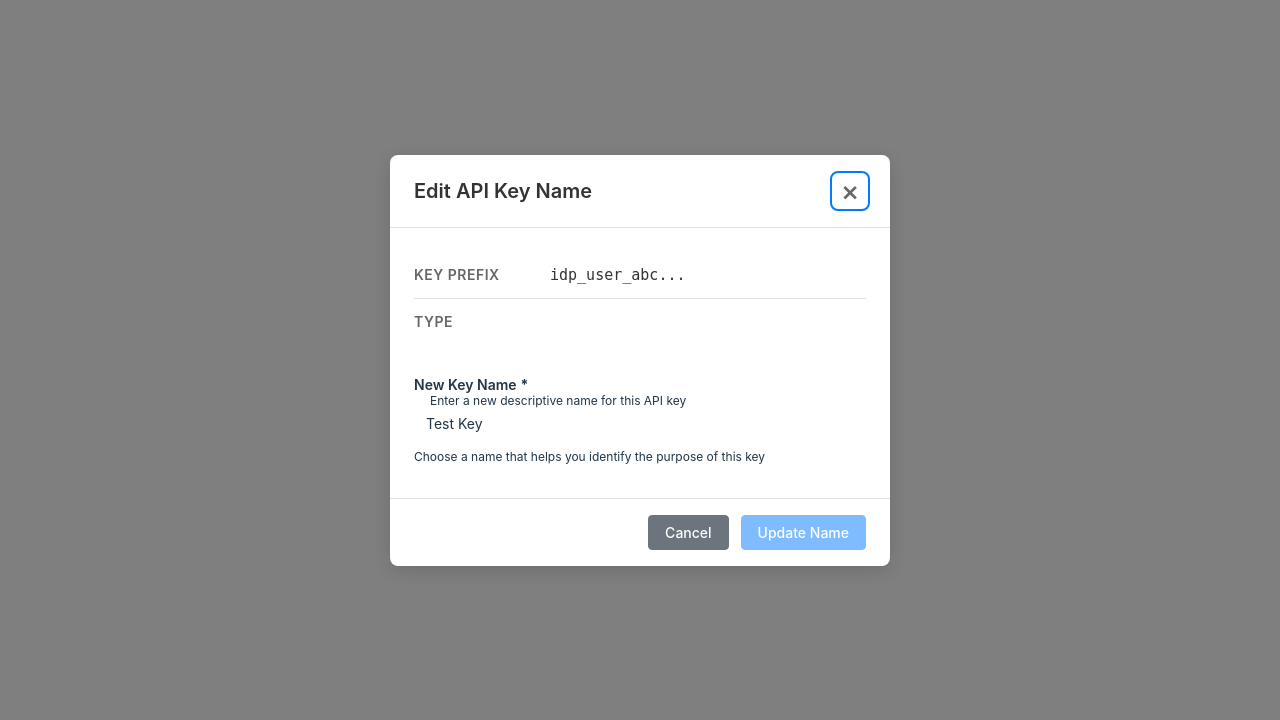
Scenario: ApiKeyEditNameModal › enables update button when name is changed
Replace the text in the field with "New Key Name" at (640, 421), box [414, 400, 866, 442]
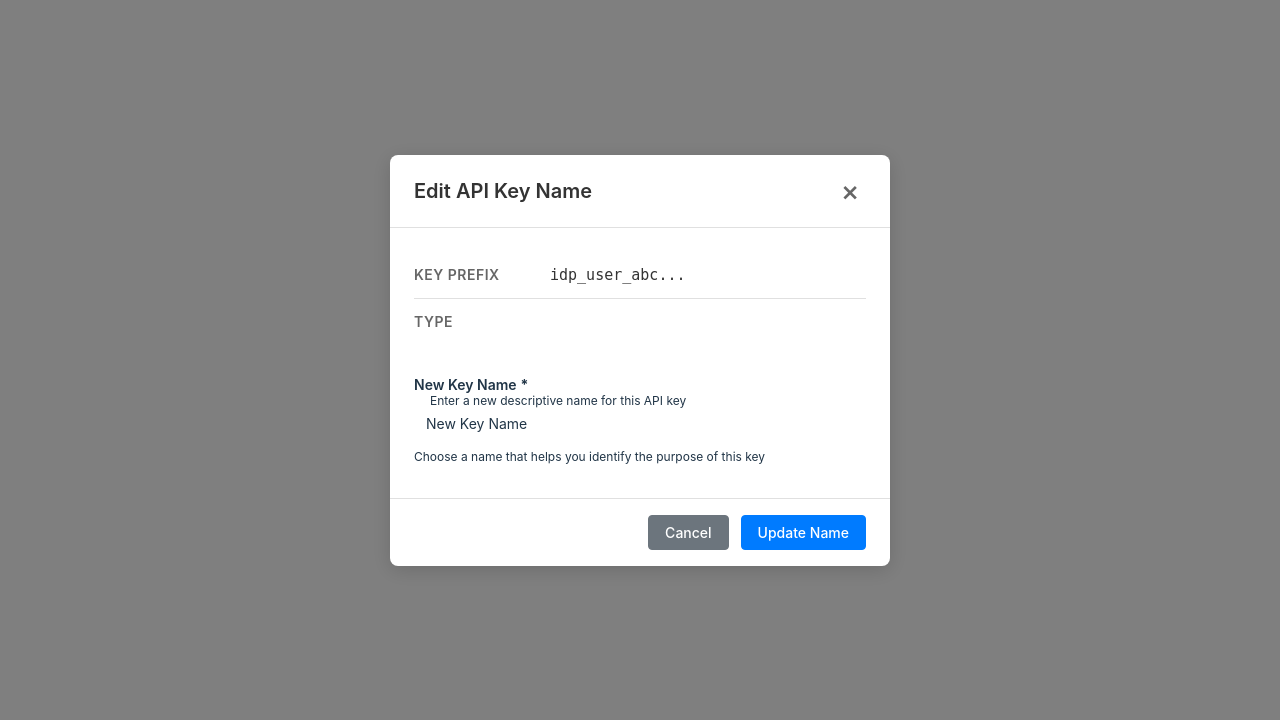
Expected: the button "Update Name" is enabled, [741, 514, 866, 550]
